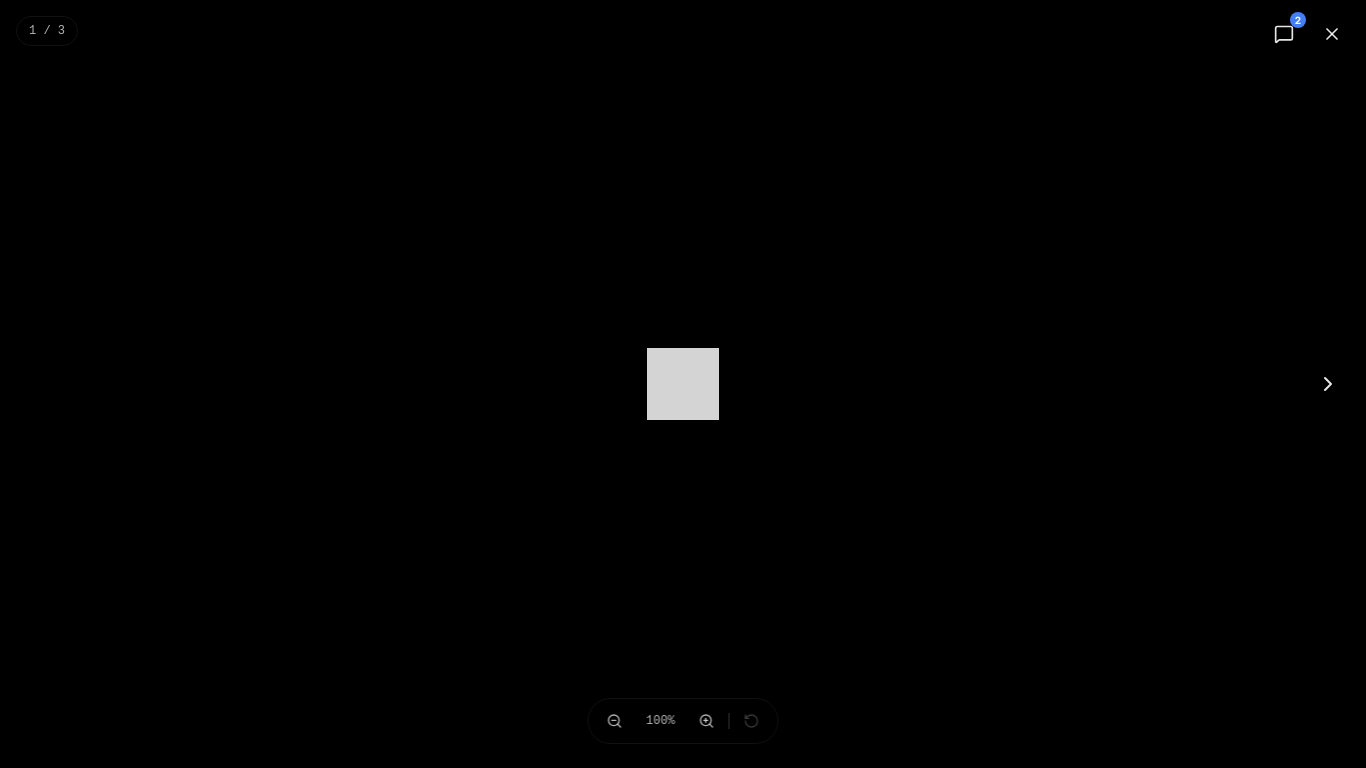
it: ImageLightbox › shows empty state when no comments on current image
Note: Navigate to second image (img2) which has no matching comments
Click the button titled "Next (→)": (1328, 384) [1306, 362, 1350, 406]
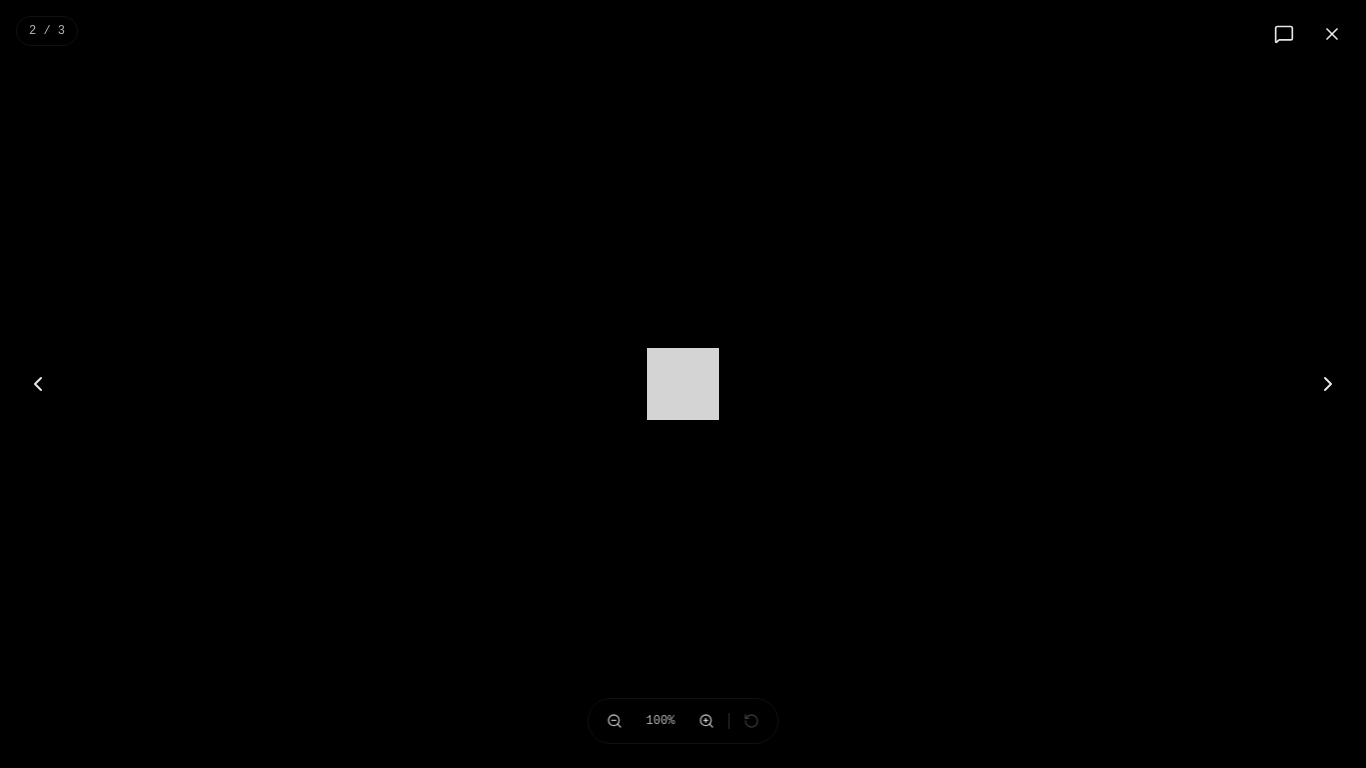
Now the text "2 / 3" is shown, box [16, 16, 78, 46]
Note: Toggle comments — should show empty state
Click the button titled "Toggle comments": (1284, 34) [1266, 16, 1302, 52]
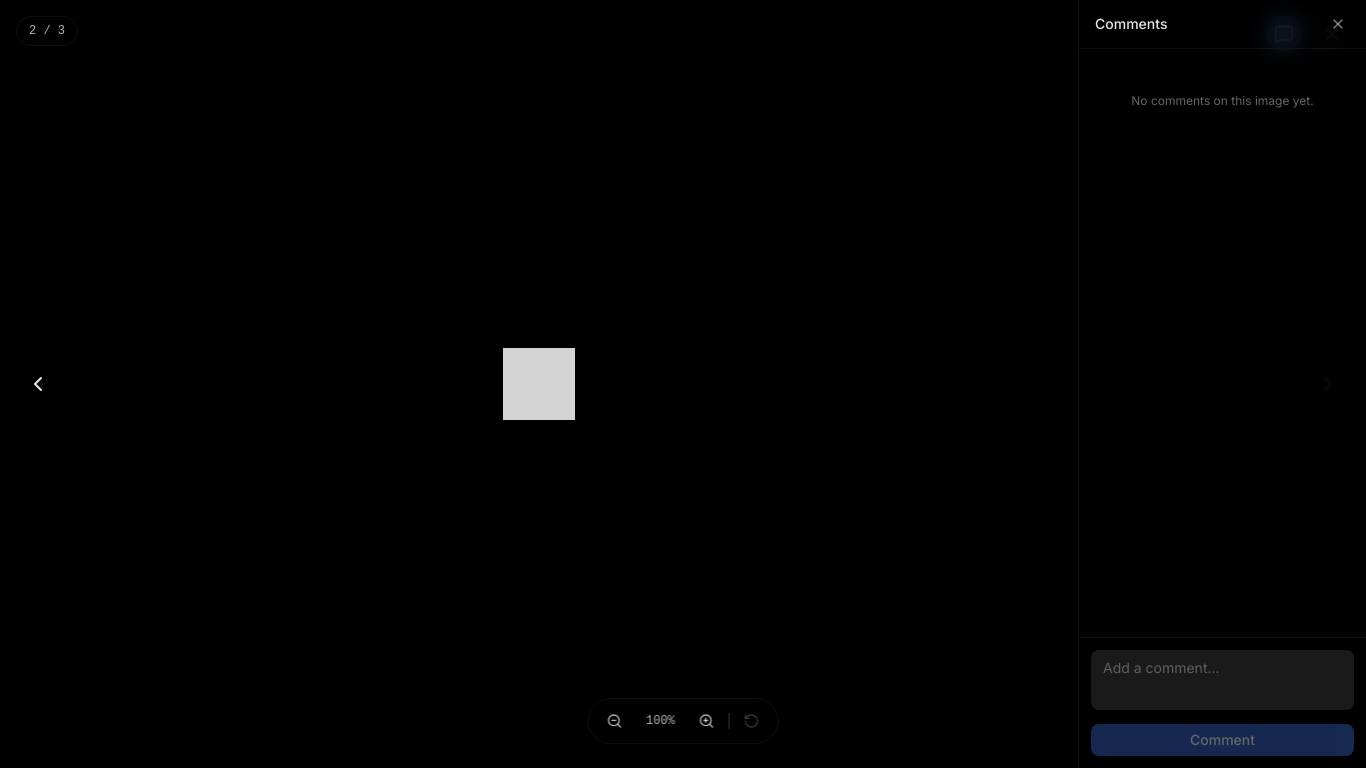
Now the text "No comments on this image yet." is shown, box [1131, 93, 1314, 108]
